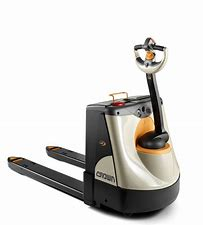Pallet Jack: (3, 36, 185, 217)
